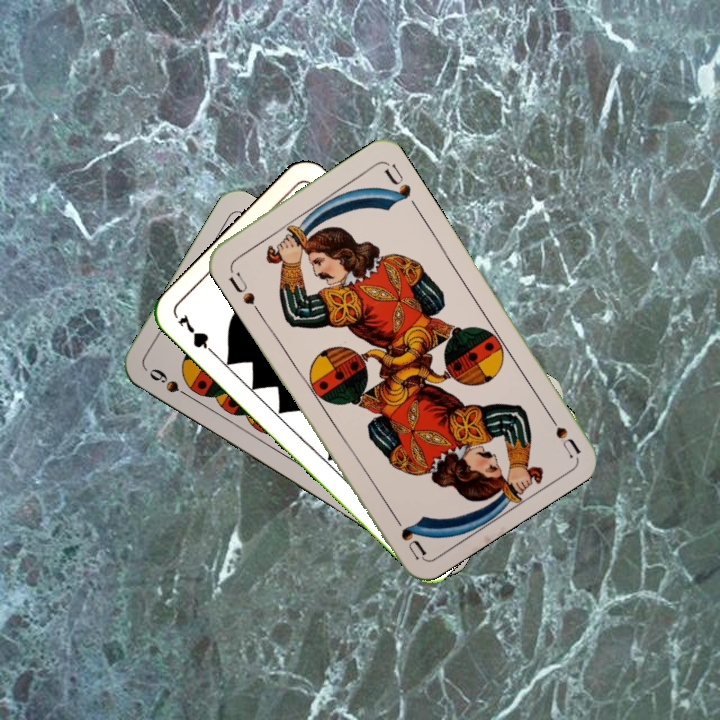G7: (174, 310, 220, 360)
S9: (145, 364, 197, 403)
SU: (540, 404, 583, 459), (225, 268, 263, 316)
